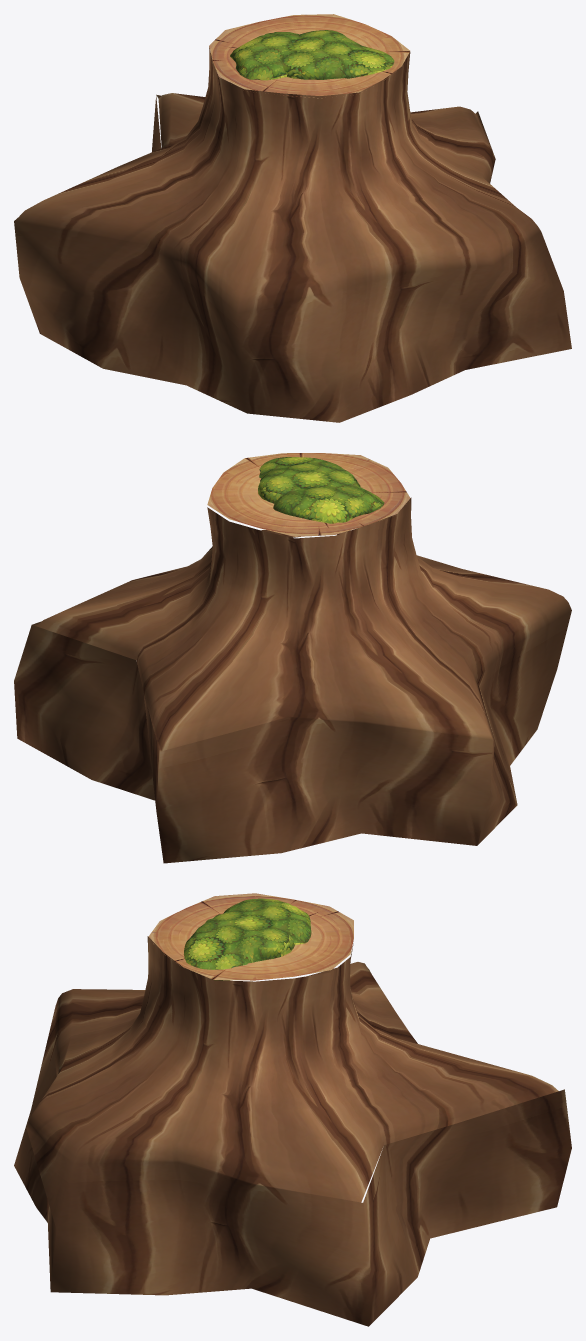
The model's file is mossy_stump1.glb.
3 renders of one model, top to bottom at view 1: azimuth 30°, elevation 25°; view 2: azimuth 150°, elevation 25°; view 3: azimuth 270°, elevation 25°, orthographic. The views are drawn at different scales.
Parts seen in each view (by area): view 1: mossy_stump1_bark_LOD0, mossy_stump1_cap_LOD0, mossy_stump1_moss_LOD0; view 2: mossy_stump1_bark_LOD0, mossy_stump1_cap_LOD0, mossy_stump1_moss_LOD0; view 3: mossy_stump1_bark_LOD0, mossy_stump1_cap_LOD0, mossy_stump1_moss_LOD0.
Part boxes in pixels (<box>): mossy_stump1_bark_LOD0: <box>14,46,571,422</box>; mossy_stump1_cap_LOD0: <box>209,14,409,98</box>; mossy_stump1_moss_LOD0: <box>230,30,394,80</box>; mossy_stump1_bark_LOD0: <box>14,497,571,863</box>; mossy_stump1_cap_LOD0: <box>207,453,410,536</box>; mossy_stump1_moss_LOD0: <box>258,457,384,523</box>; mossy_stump1_bark_LOD0: <box>14,936,571,1326</box>; mossy_stump1_cap_LOD0: <box>148,893,353,980</box>; mossy_stump1_moss_LOD0: <box>184,898,311,980</box>.
Size of what is drawn, in the model's own units: 1.53 by 0.8447 by 1.5.
Materials: 3 (3 with a texture image).
